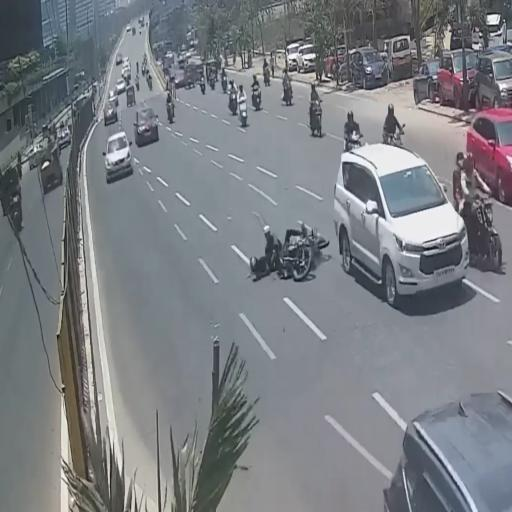小汽车: (335, 144, 470, 314), (461, 103, 512, 199), (437, 48, 474, 110), (476, 52, 511, 103), (105, 130, 132, 180), (134, 107, 159, 142)
自行车: (451, 143, 505, 272), (248, 214, 332, 280), (381, 102, 408, 156), (306, 80, 324, 140), (342, 110, 363, 158)
